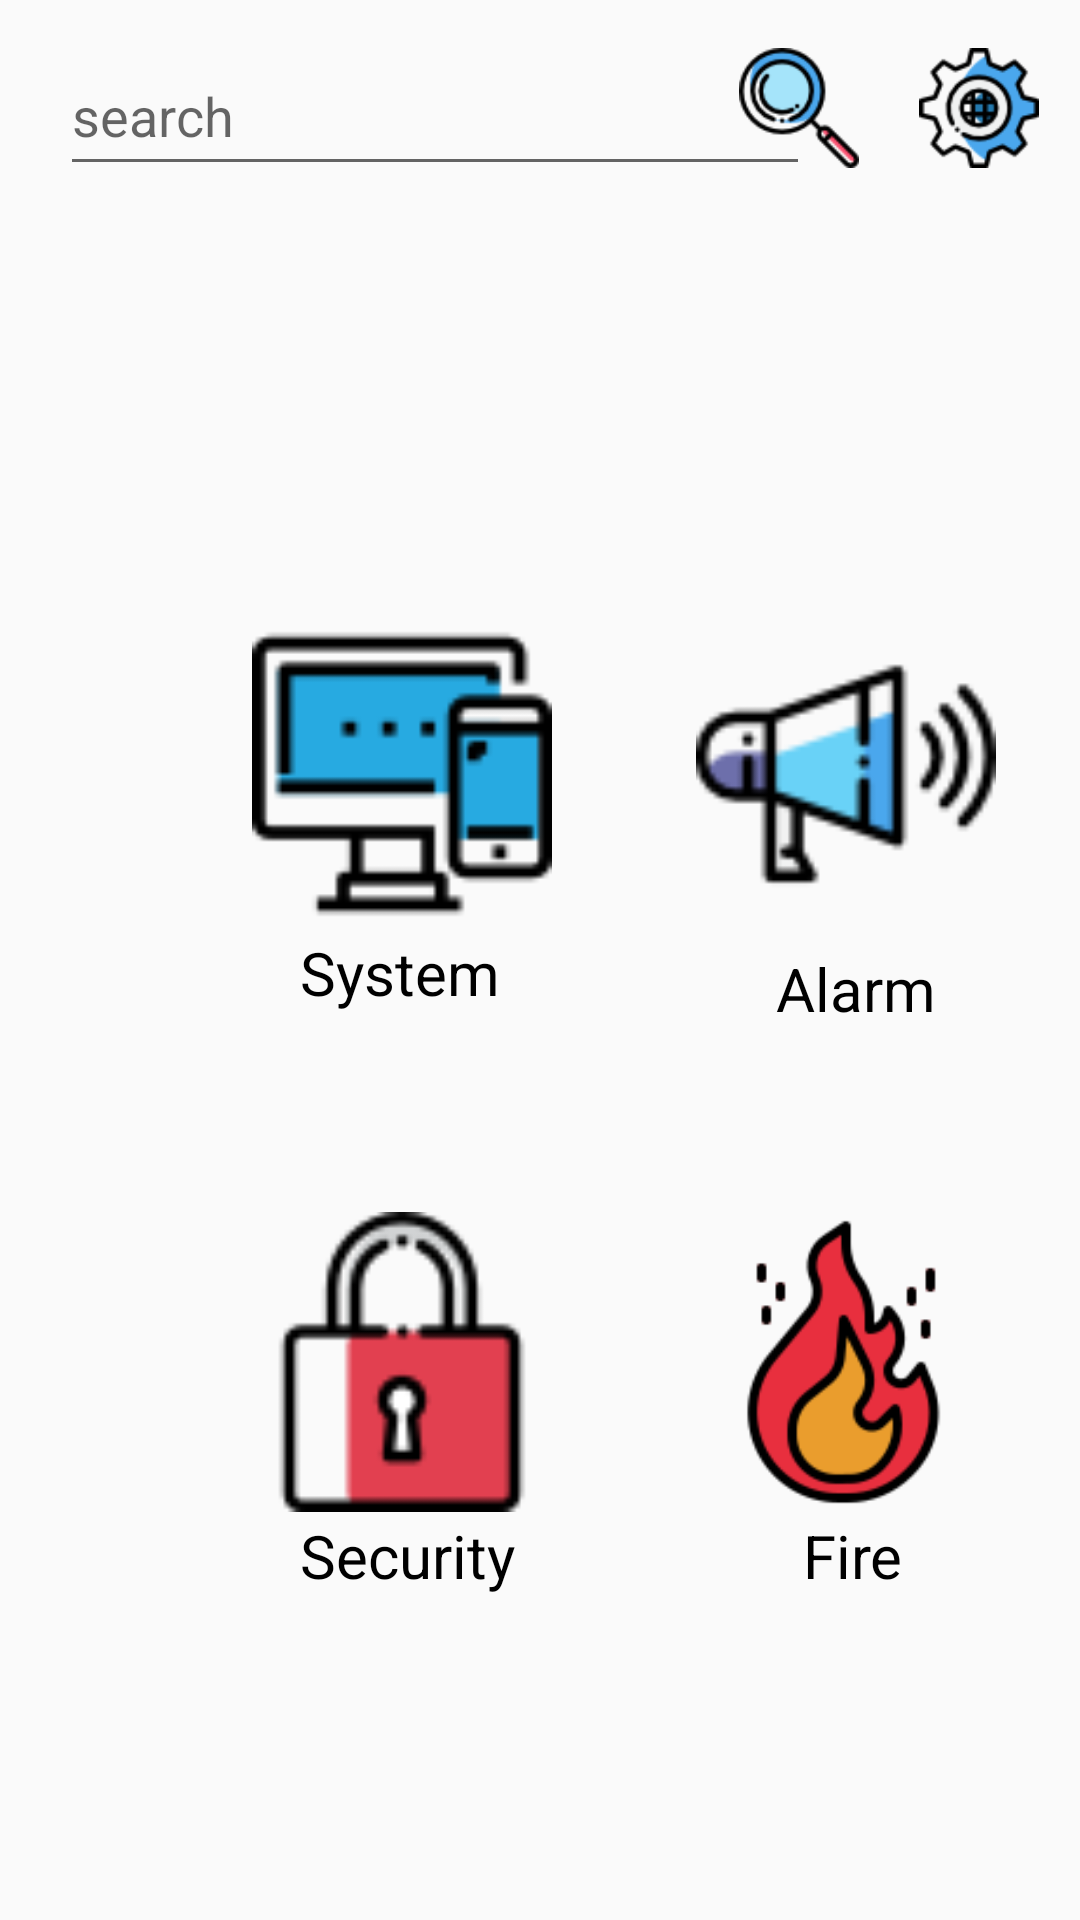

Named icons in this screenshot (1080×1920) and their centers, point (x, y):
settings: point (979, 108)
